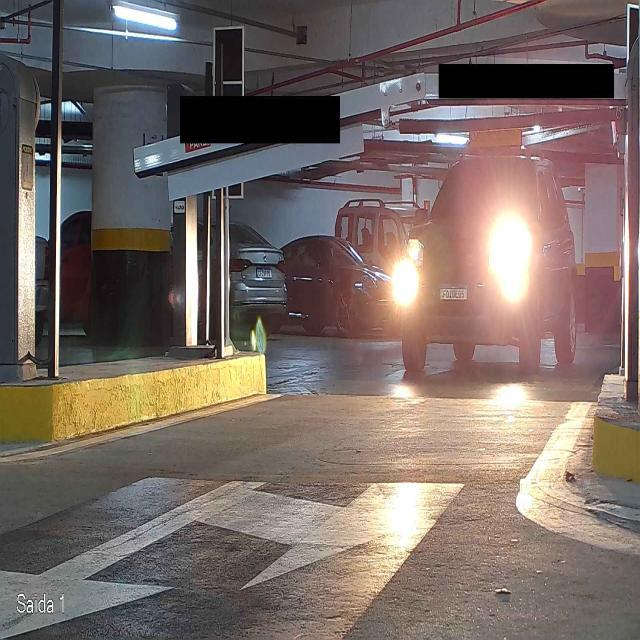mercosul_plate: (438, 283, 468, 301)
